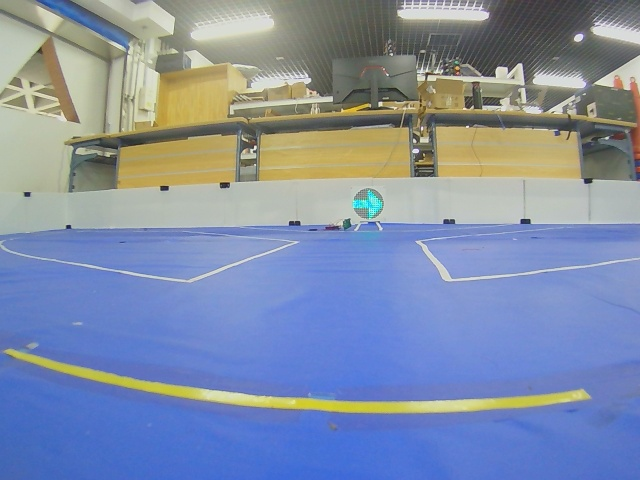right_green: (352, 188, 384, 219)
